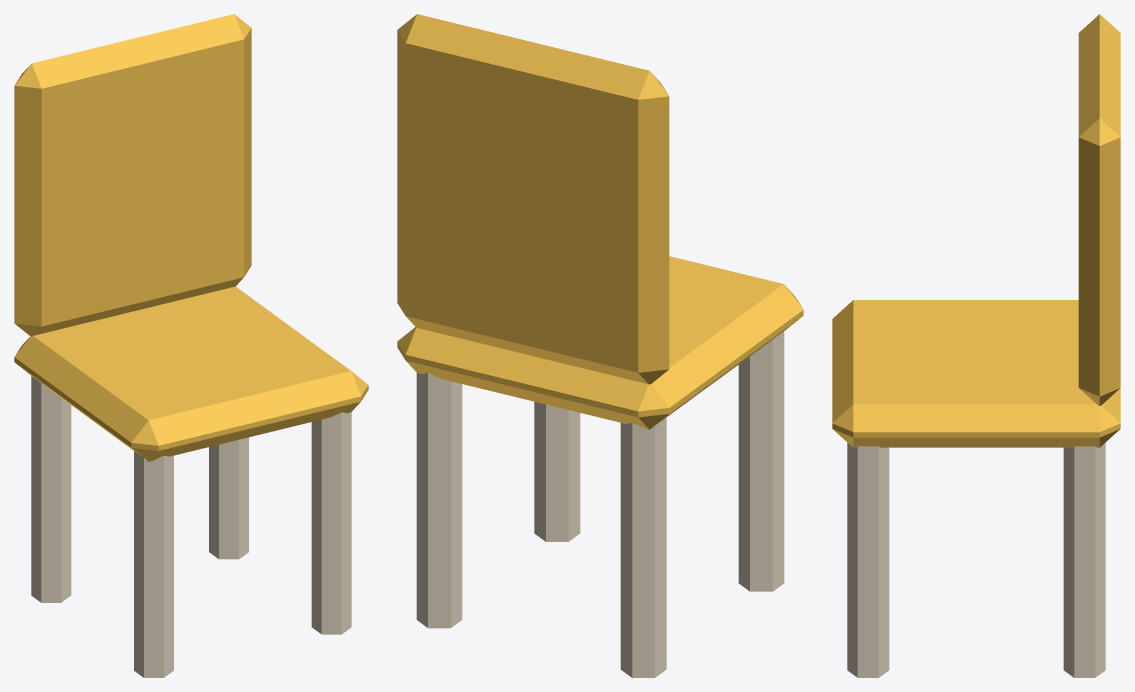
The picture shows the model from 3 angles, left to right: view 1: azimuth 30°, elevation 25°; view 2: azimuth 150°, elevation 25°; view 3: azimuth 270°, elevation 25°; orthographic projection. The views are drawn at different scales.
Parts seen in each view (by area): view 1: Backrest, Seat, Leg.002, Leg, Leg.001, Leg.003; view 2: Backrest, Seat, Leg.001, Leg.003, Leg, Leg.002; view 3: Seat, Backrest, Leg.002, Leg.003.
Part boxes in pixels (box(x1,y1,x2,y2)): Backrest: box(14, 14, 251, 336); Seat: box(14, 286, 368, 461); Leg.002: box(311, 412, 351, 634); Leg: box(134, 451, 173, 677); Leg.001: box(31, 376, 71, 602); Leg.003: box(209, 437, 248, 559); Backrest: box(397, 14, 669, 384); Seat: box(397, 256, 803, 429); Leg.001: box(620, 417, 666, 677); Leg.003: box(416, 373, 462, 628); Leg: box(738, 331, 784, 591); Leg.002: box(534, 401, 580, 541); Seat: box(832, 300, 1120, 447); Backrest: box(1078, 14, 1120, 405); Leg.002: box(847, 443, 889, 677); Leg.003: box(1063, 443, 1105, 677).
Size of the model in its own units: 0.48 by 1.02 by 0.48.
1 material, 1 textured.
